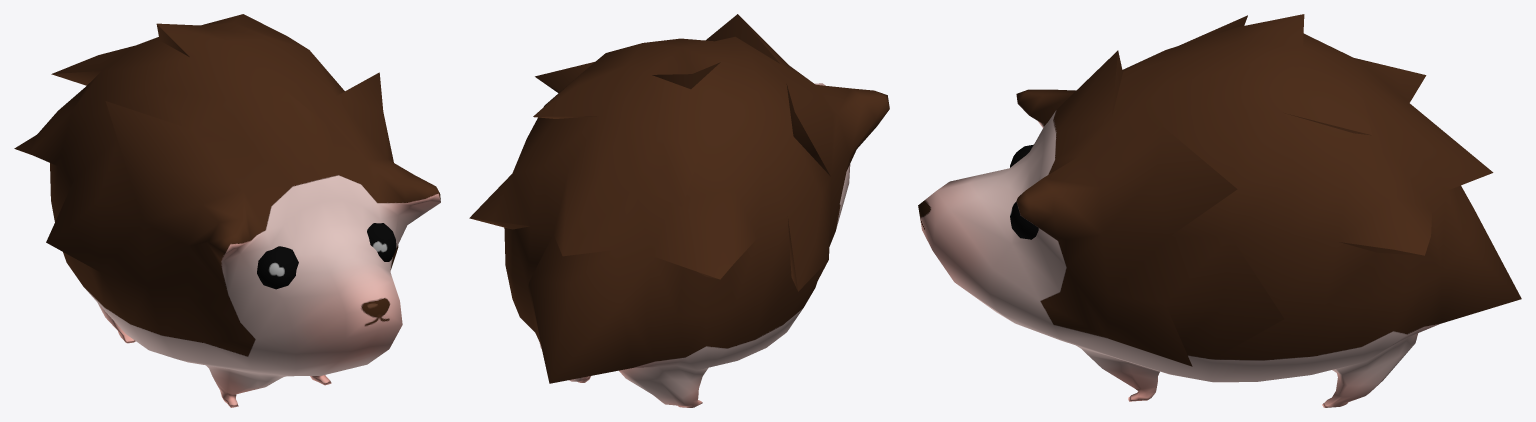
The model's file is SM_Hedgehog.fbx.
3 views of the same model, side by side, from view 1: azimuth 30°, elevation 25°; view 2: azimuth 150°, elevation 25°; view 3: azimuth 270°, elevation 25° (orthographic). The views are drawn at different scales.
Visible parts, largest first — view 1: herisson; view 2: herisson; view 3: herisson.
Boxes of the visible parts, x1,y1,x2,y2 form: herisson: [14, 14, 440, 407]; herisson: [469, 14, 889, 407]; herisson: [918, 14, 1521, 407].
Bounding box in the file's own units: 0.3559 × 0.364 × 0.5855.
